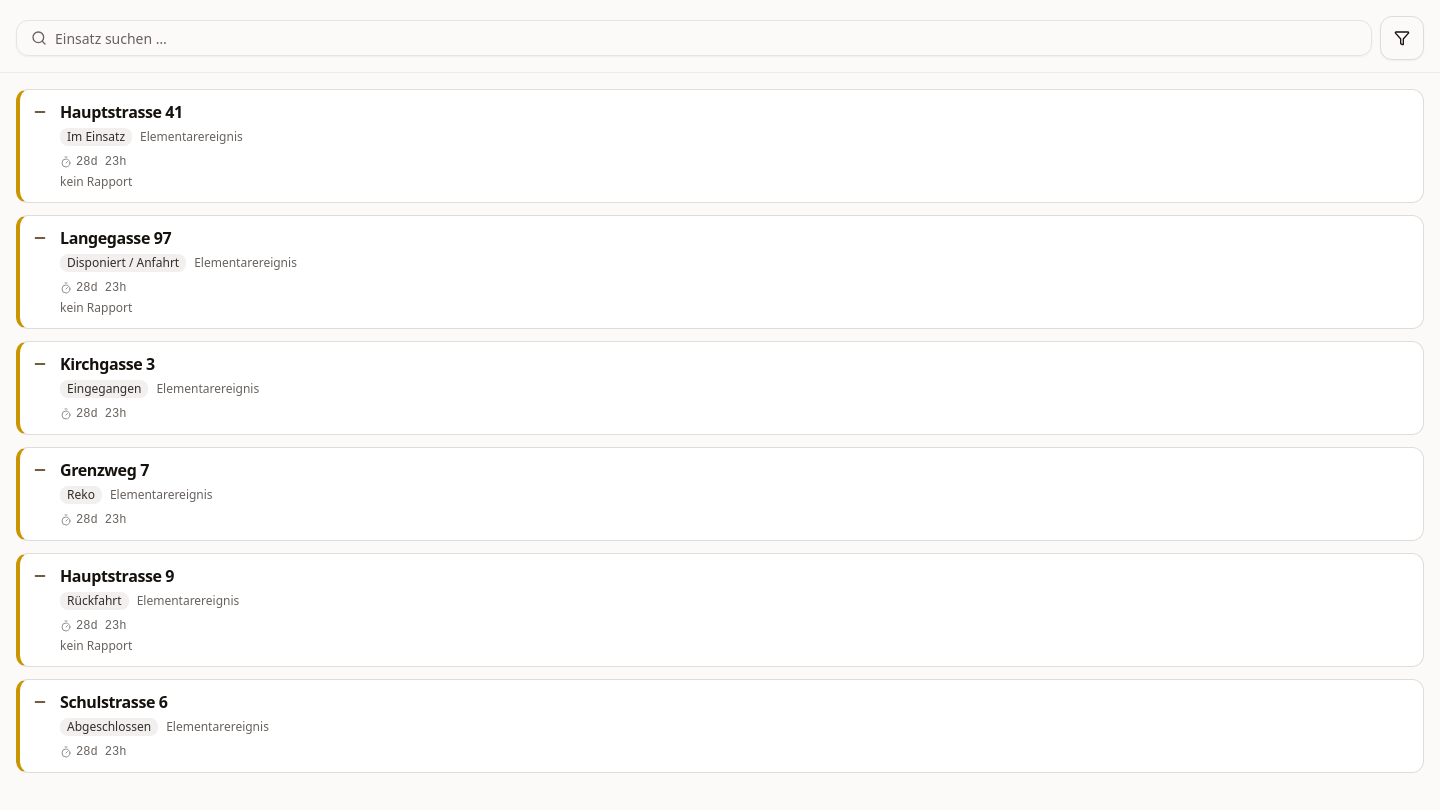
Test case: MobileIncidentListView — the funnel filter › counts under the search: a row says what ticking it would show
In the field with placeholder "Einsatz suchen …": (694, 38) [16,20,1372,56], type "Hauptstrasse"
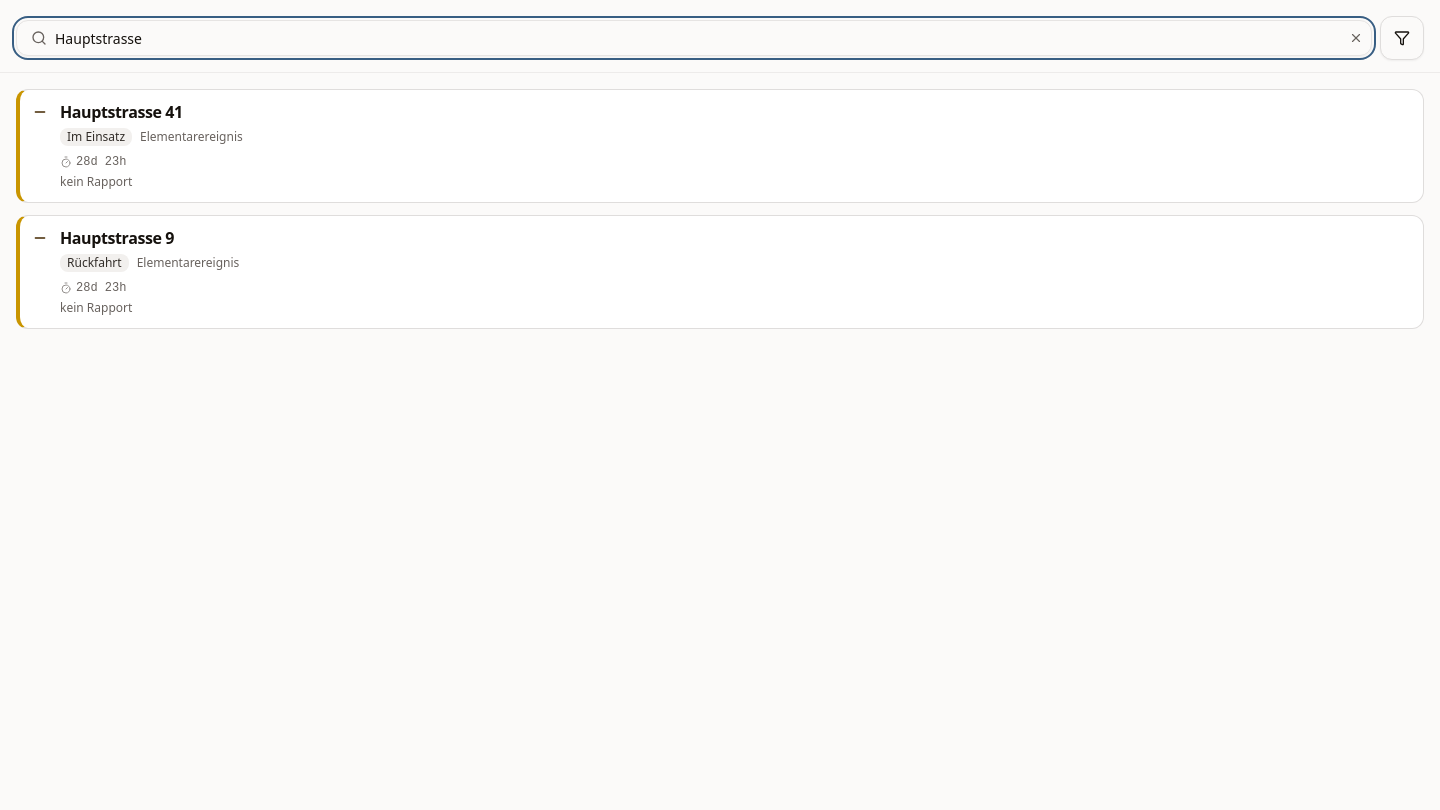
Click the button named "Filtern": (1402, 38) [1380,16,1424,60]
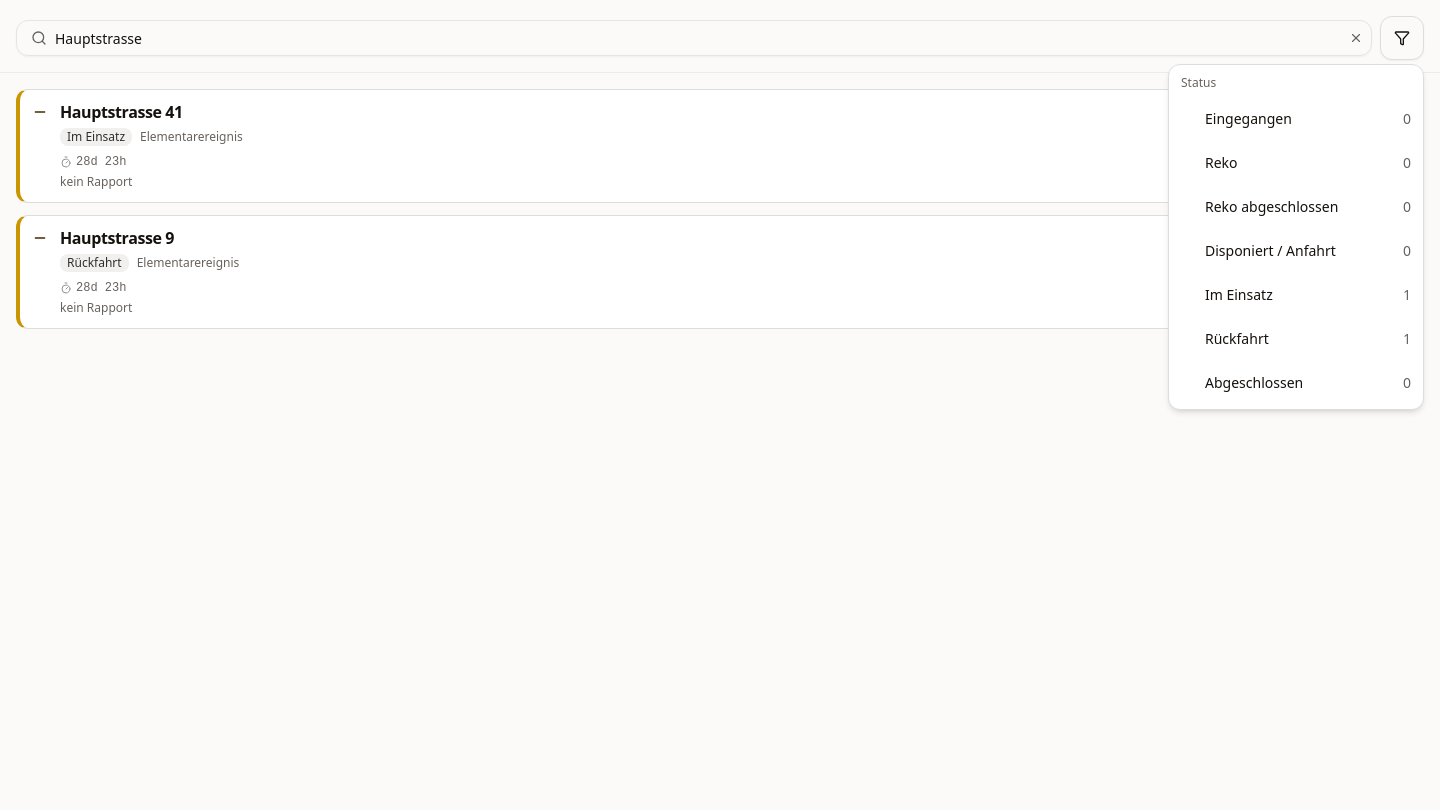
Now the menu item "Im Einsatz 1" is shown, box [1205,285,1411,304]
Now the menu item "Rückfahrt 1" is shown, box [1205,329,1411,348]
Now the menu item "Eingegangen 0" is shown, box [1205,109,1411,128]
